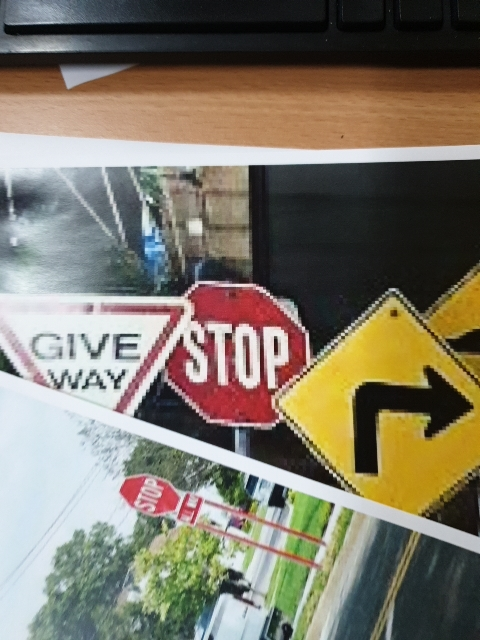giveway: (6, 273, 187, 418)
right: (288, 299, 472, 510)
stop: (150, 289, 332, 434)
